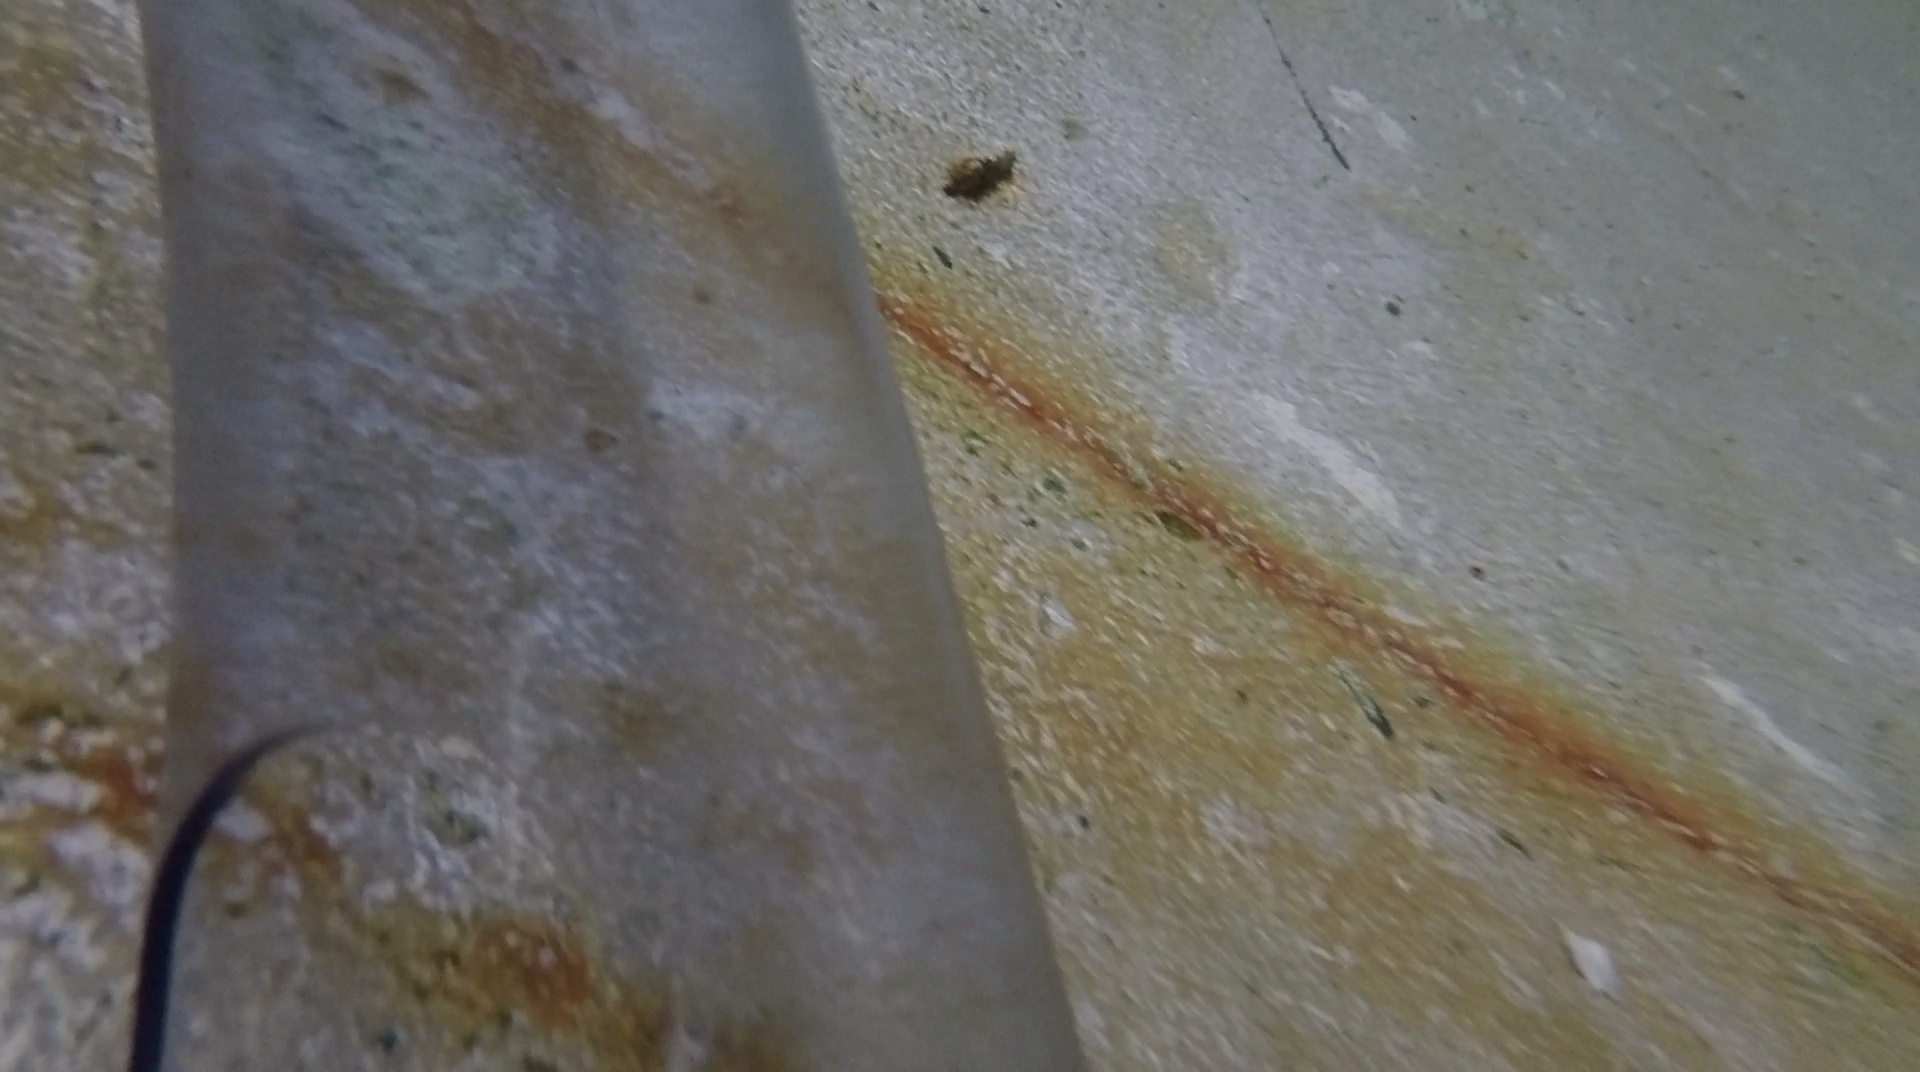pipe: (127, 1, 1089, 1069)
